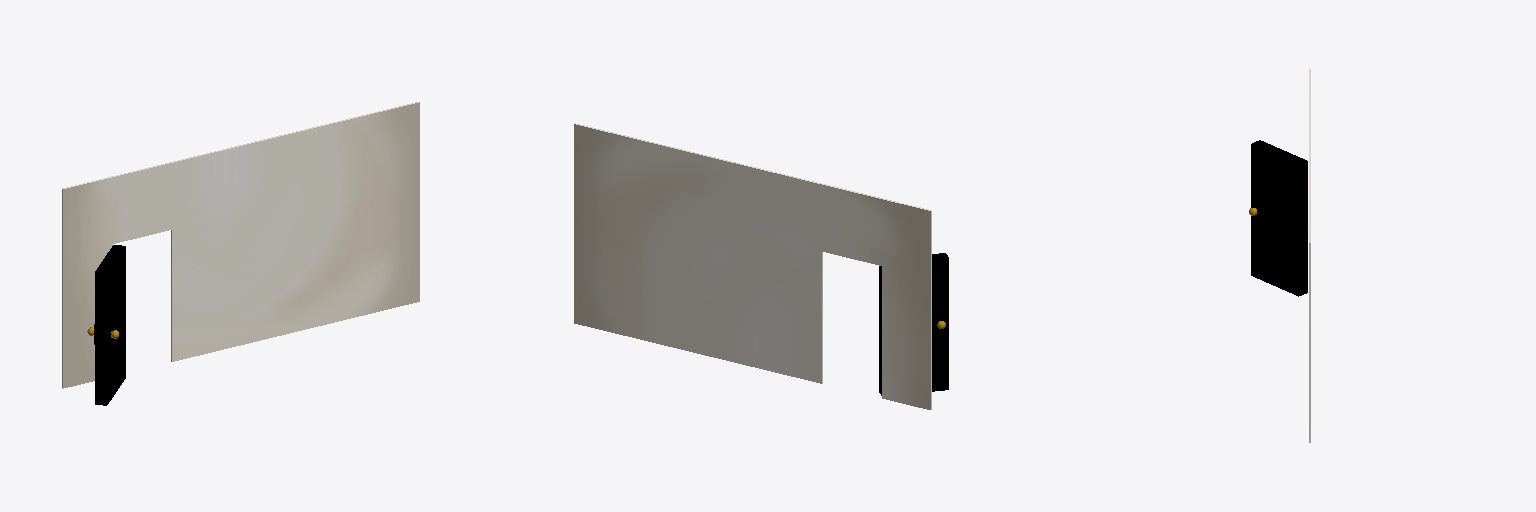
3 renders of one model, left to right at view 1: azimuth 30°, elevation 25°; view 2: azimuth 150°, elevation 25°; view 3: azimuth 270°, elevation 25°, orthographic.
Parts seen in each view (by area): view 1: polySurface5, puertaAnim:polySurface5; view 2: polySurface5, puertaAnim:polySurface5; view 3: puertaAnim:polySurface5, polySurface5.
Boxes of the visible parts, x1=… form: polySurface5: x1=62, y1=102, x2=419, y2=388; puertaAnim:polySurface5: x1=87, y1=245, x2=125, y2=405; polySurface5: x1=574, y1=123, x2=931, y2=409; puertaAnim:polySurface5: x1=879, y1=253, x2=948, y2=395; puertaAnim:polySurface5: x1=1249, y1=140, x2=1307, y2=296; polySurface5: x1=1309, y1=69, x2=1310, y2=442.
Size of the model in its own units: 18.29 by 9.77 by 2.75.
Materials: 4 (2 with a texture image).